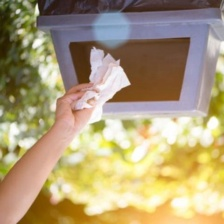tissue: (64, 41, 134, 128)
